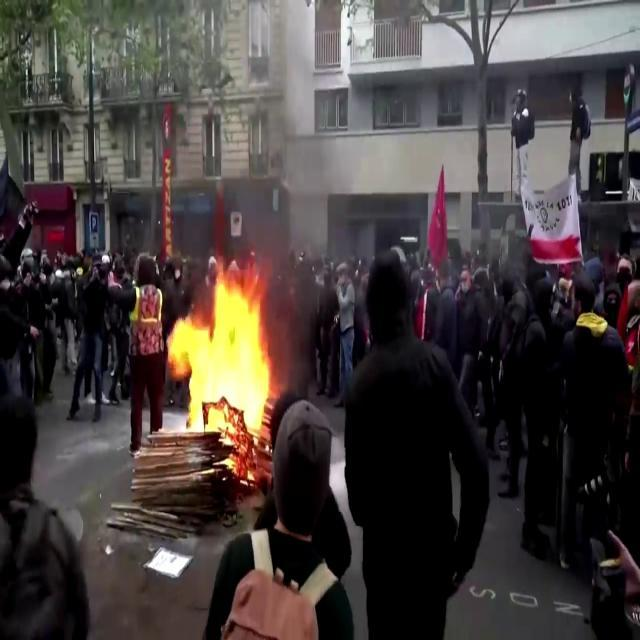Fire: (166, 256, 280, 468)
Smoke: (228, 2, 342, 322)
